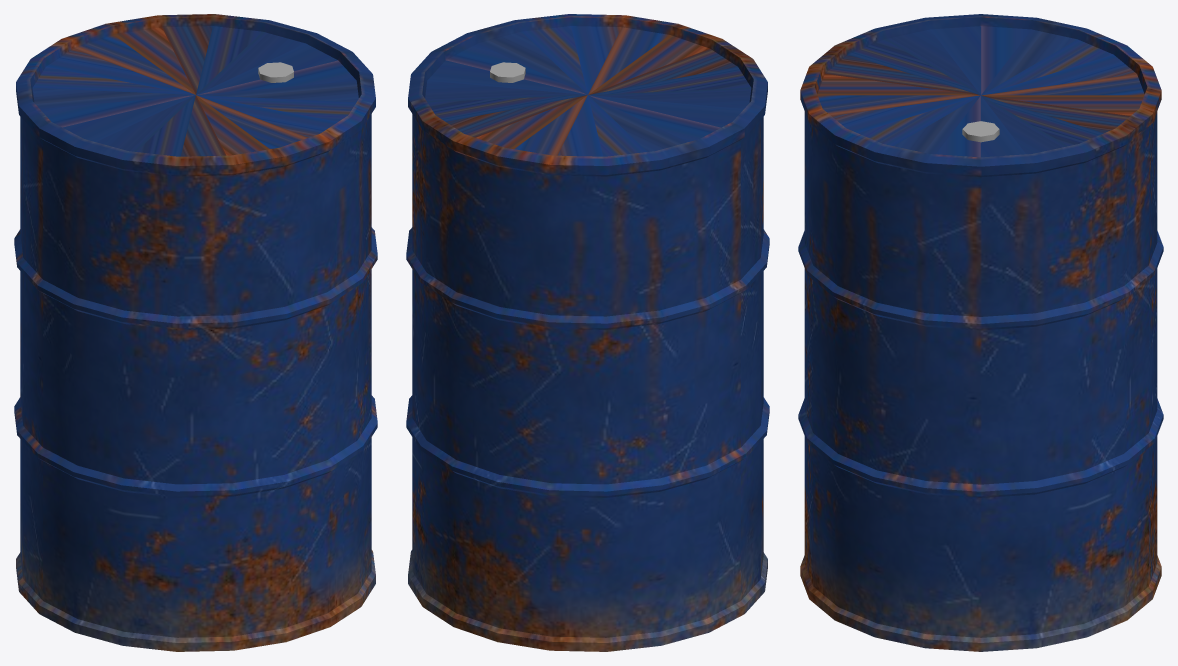
Rendered from drum_blue.glb.
3 renders of one model, left to right at view 1: azimuth 30°, elevation 25°; view 2: azimuth 150°, elevation 25°; view 3: azimuth 270°, elevation 25°, orthographic.
Parts seen in each view (by area): view 1: model; view 2: model; view 3: model.
Boxes of the visible parts, x1,y1,x2,y2 form: model: (14, 14, 377, 651); model: (406, 14, 769, 651); model: (798, 14, 1163, 651).
Bounding box in the file's own units: 0.592 × 0.88 × 0.592.
2 materials, 1 textured.
